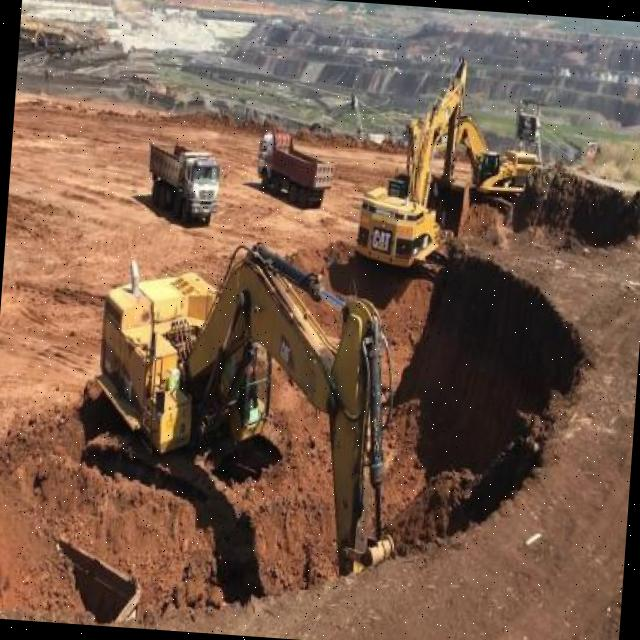Dump Truck: (143, 134, 224, 228), (252, 125, 334, 210)
Excavator: (79, 234, 416, 596), (356, 46, 476, 270), (451, 119, 540, 222)
